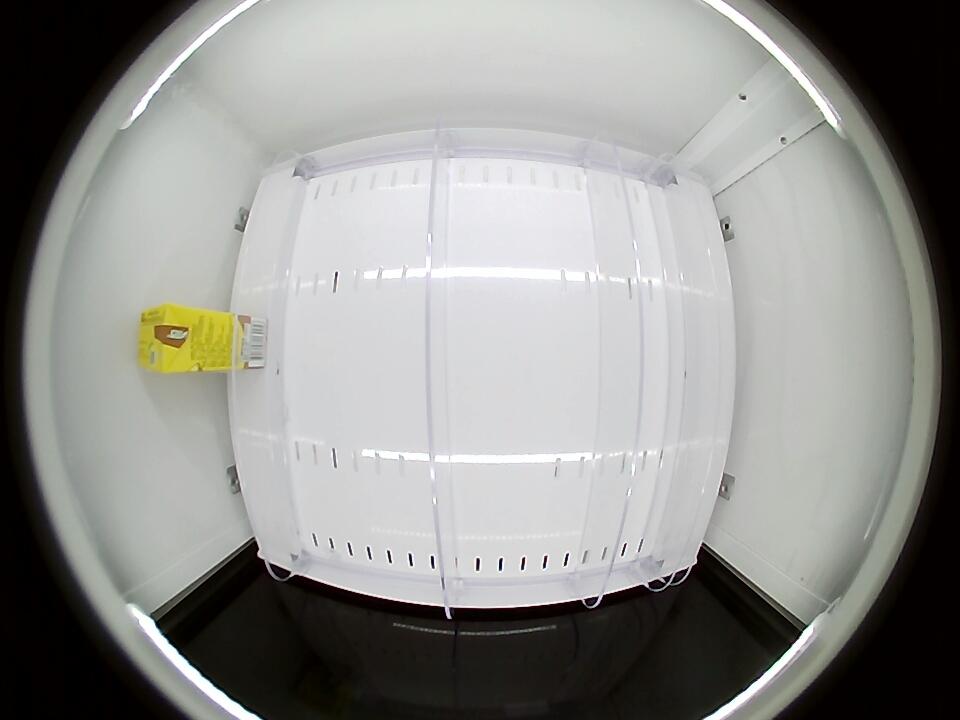weitaningmeng: (139, 304, 199, 372)
